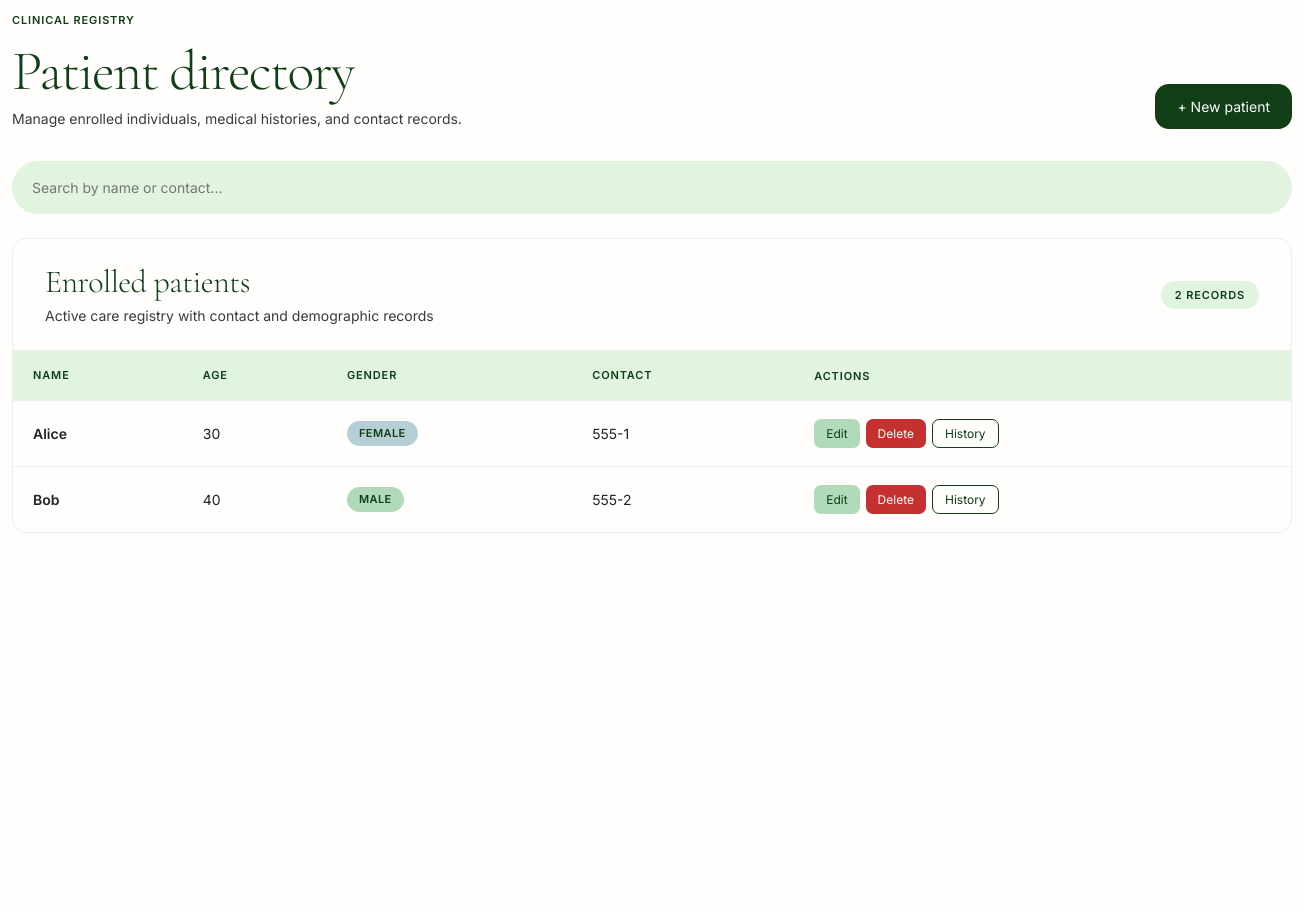
PatientManagement › opens Add patient form on button click
The image size is (1304, 912).
Click the button "+ New patient" at (1224, 107), box 1155,84 -> 1292,129
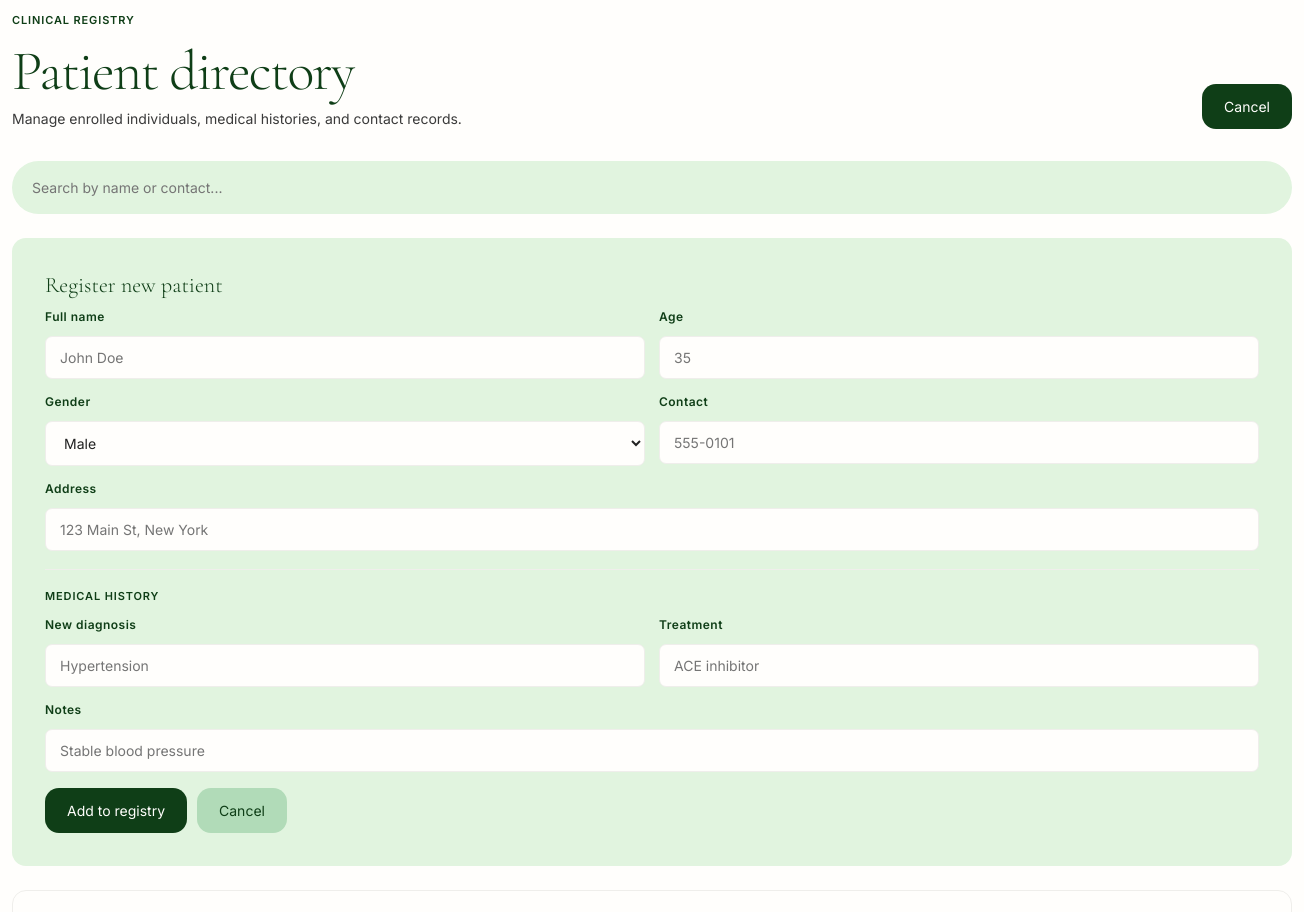
expect the heading "Register new patient" is shown: met, box 45,272 -> 223,298
expect the button "Add to registry" is shown: met, box 45,788 -> 187,833
